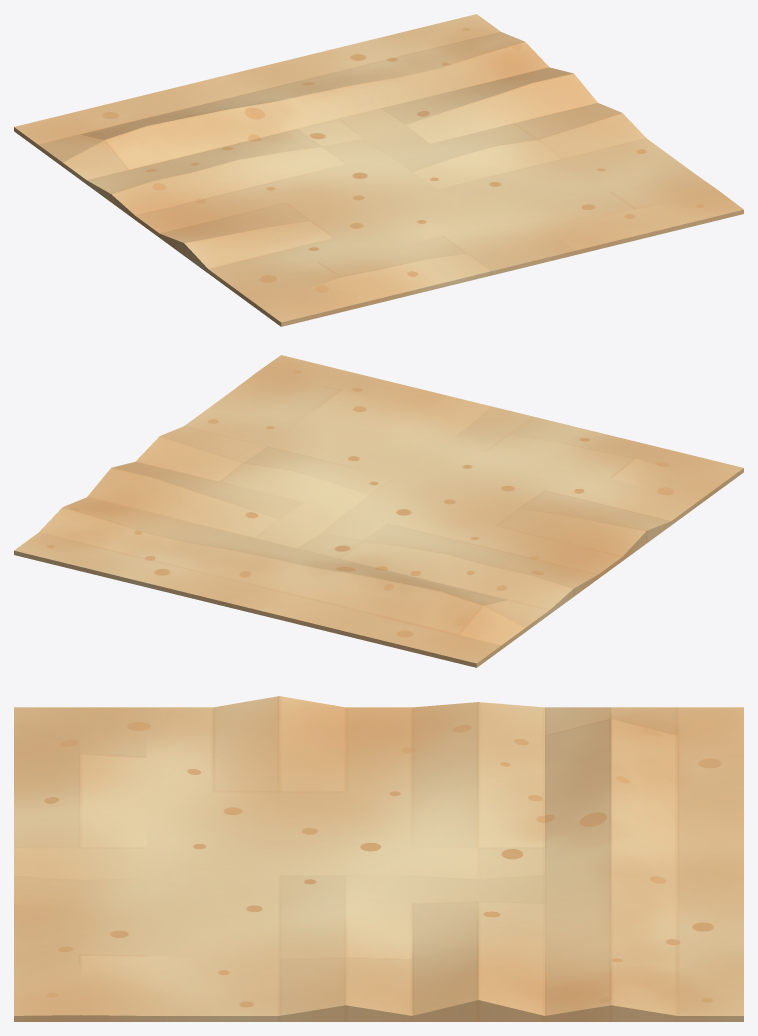
Rendered from Sand.fbx.
The picture shows the model from 3 angles, top to bottom: view 1: azimuth 30°, elevation 25°; view 2: azimuth 150°, elevation 25°; view 3: azimuth 270°, elevation 25°; orthographic projection. The views are drawn at different scales.
Visible parts, largest first — view 1: Sand; view 2: Sand; view 3: Sand.
Boxes of the visible parts, left/top/right/bottom form: Sand: left=14, top=14, right=743, bottom=326; Sand: left=14, top=355, right=743, bottom=667; Sand: left=14, top=696, right=743, bottom=1021.
Bounding box in the file's own units: 200 × 8.39 × 200.
